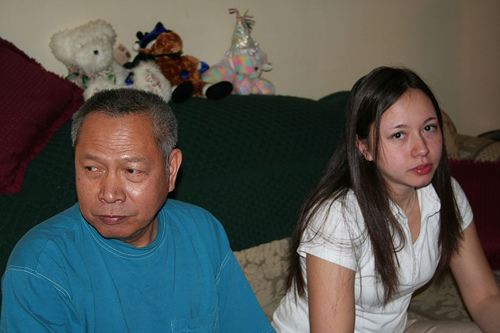without_mask: (59, 99, 187, 244), (354, 80, 454, 196)
